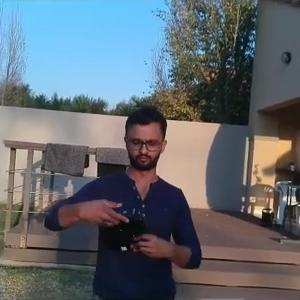follow: (41, 102, 207, 298)
